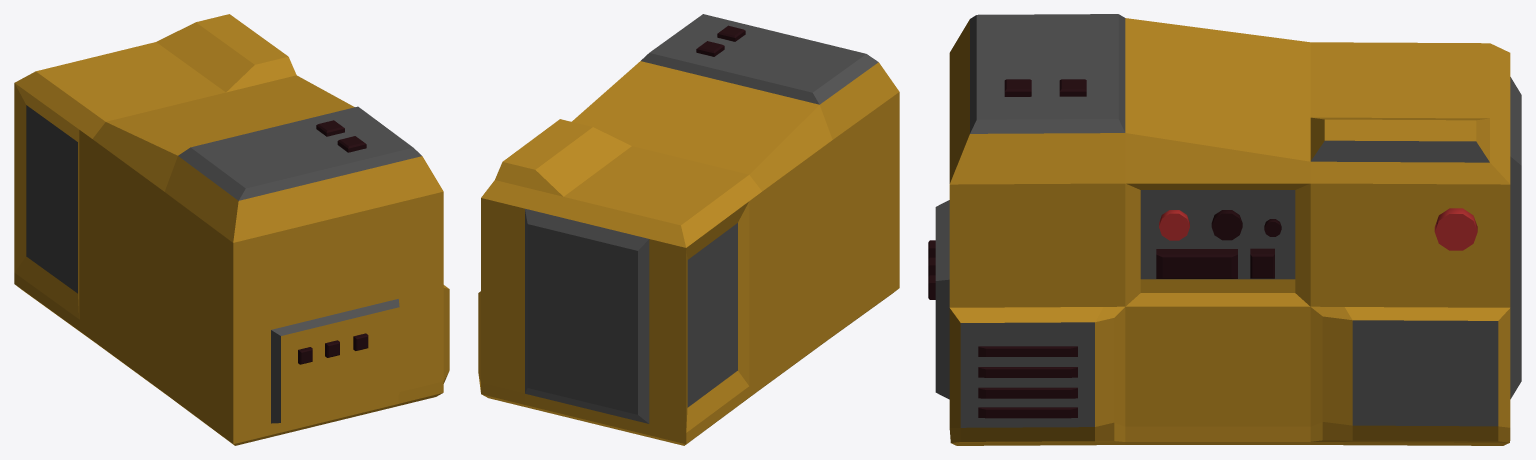
File: generaattori.fbx
The picture shows the model from 3 angles, left to right: view 1: azimuth 30°, elevation 25°; view 2: azimuth 150°, elevation 25°; view 3: azimuth 270°, elevation 25°; orthographic projection. The views are drawn at different scales.
Parts seen in each view (by area): view 1: generator; view 2: generator; view 3: generator.
Boxes of the visible parts, x1,y1,x2,y2 form: generator: (14, 14, 449, 445); generator: (478, 14, 899, 445); generator: (928, 14, 1521, 445).
Bounding box in the file's own units: 106 × 115 × 190.
